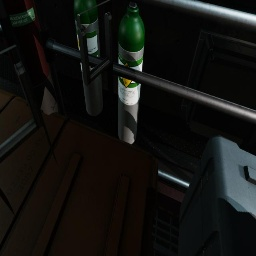0: (118, 2, 145, 144), (73, 0, 103, 116)
NitrogenTank ,: (2, 0, 58, 115)
